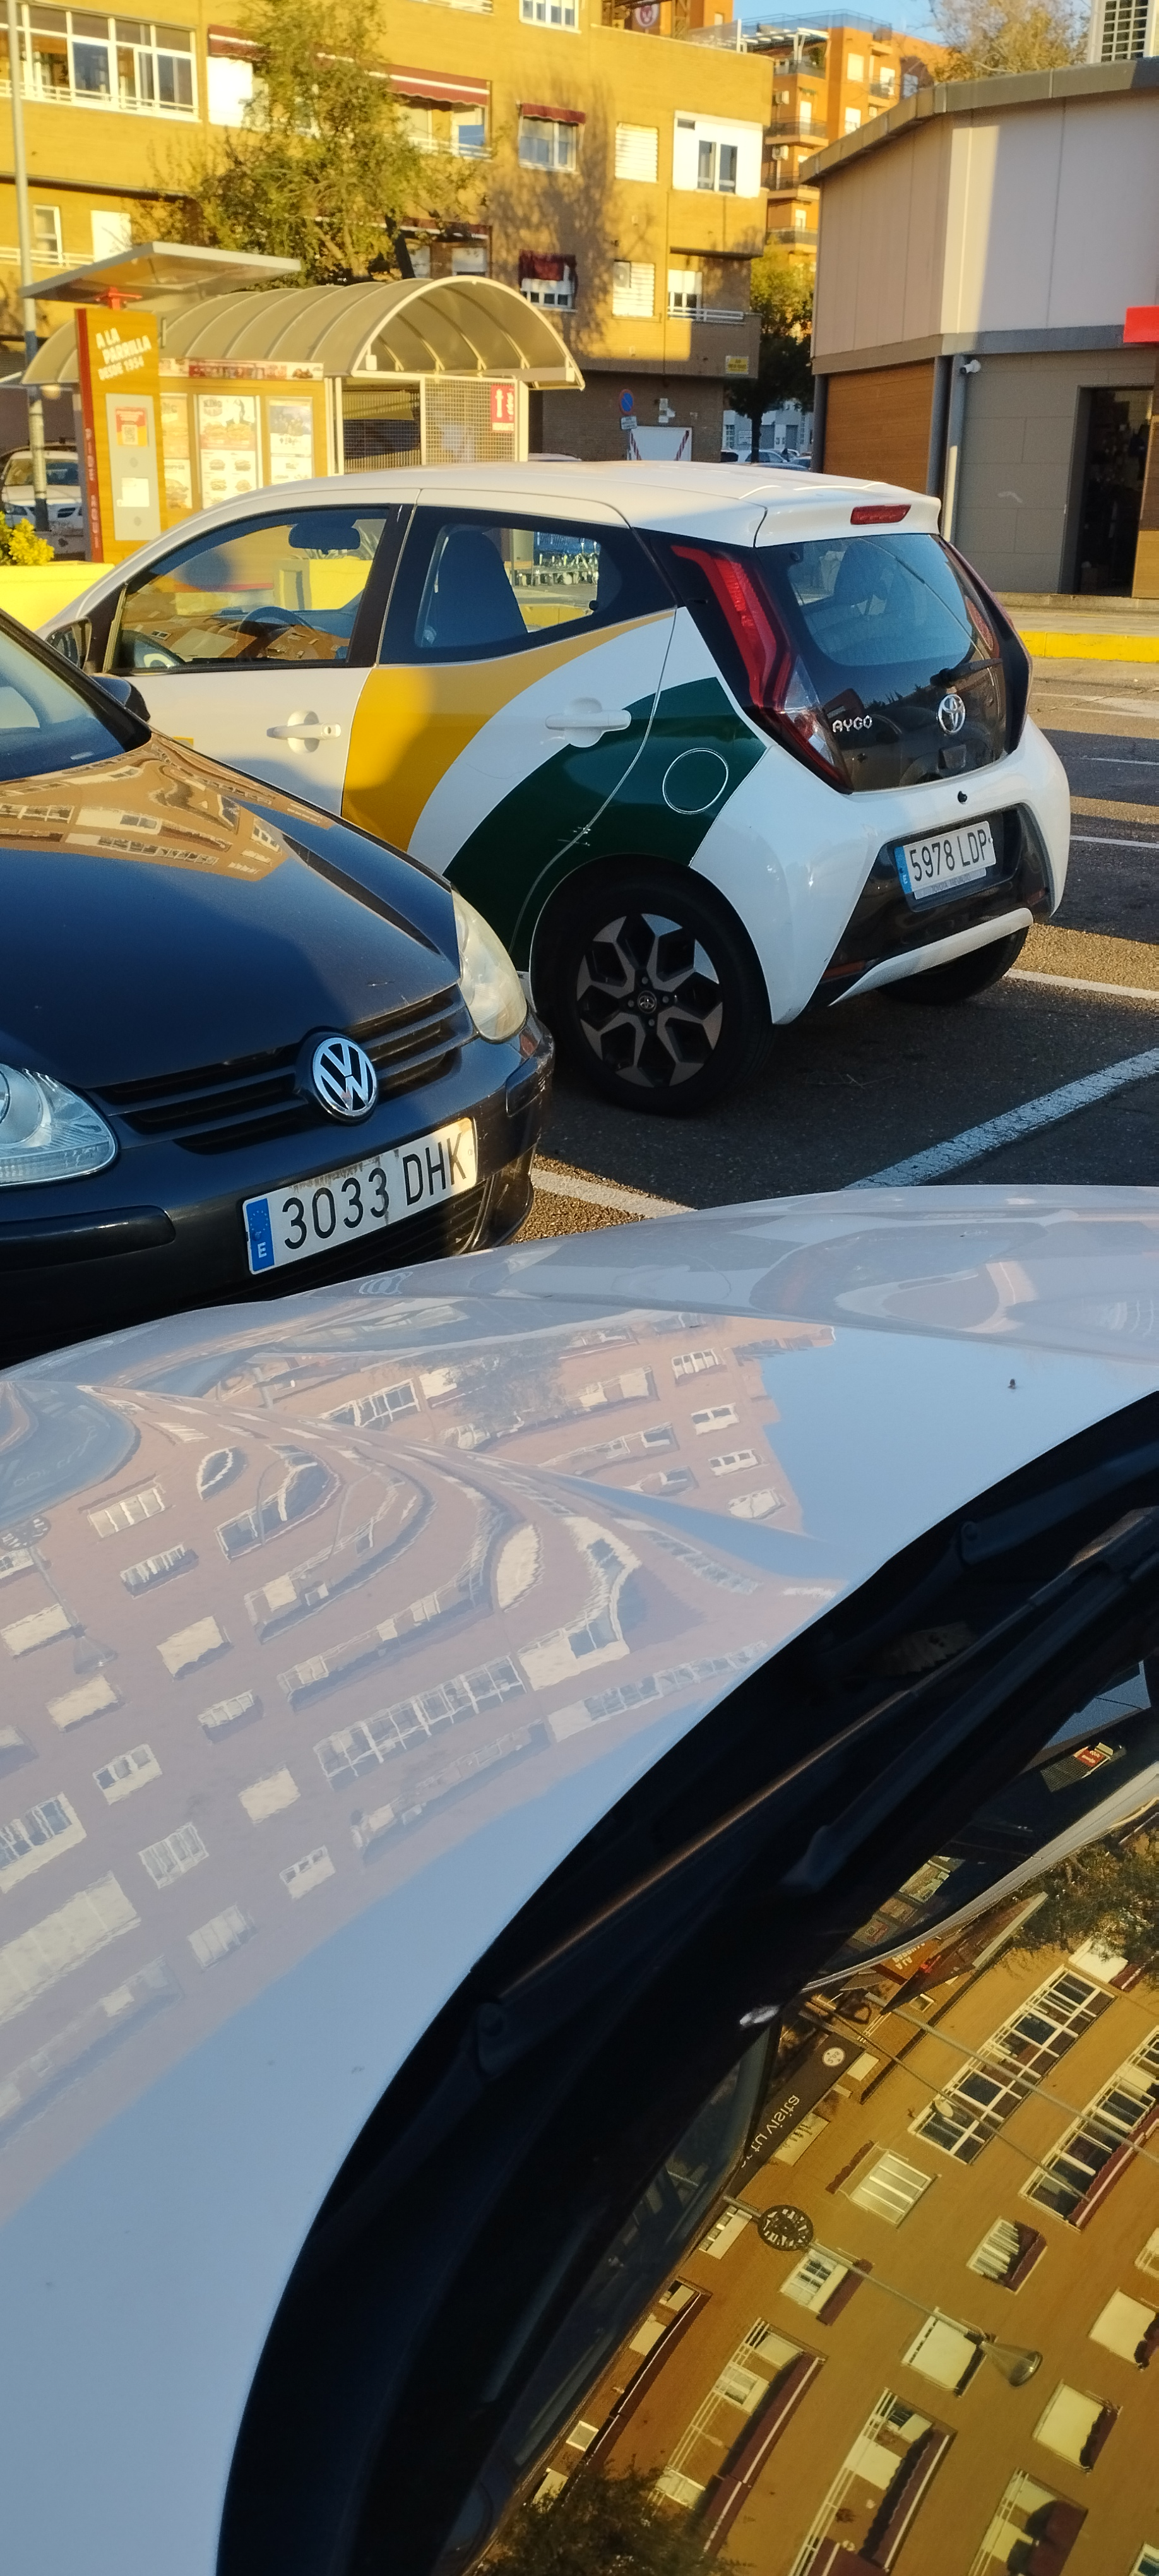Car: (206, 429, 1066, 930)
Plate: (233, 1208, 493, 1282), (885, 850, 997, 903)
